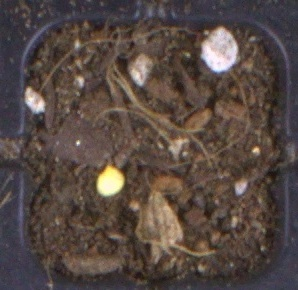chilli seed: (95, 165, 126, 198)
